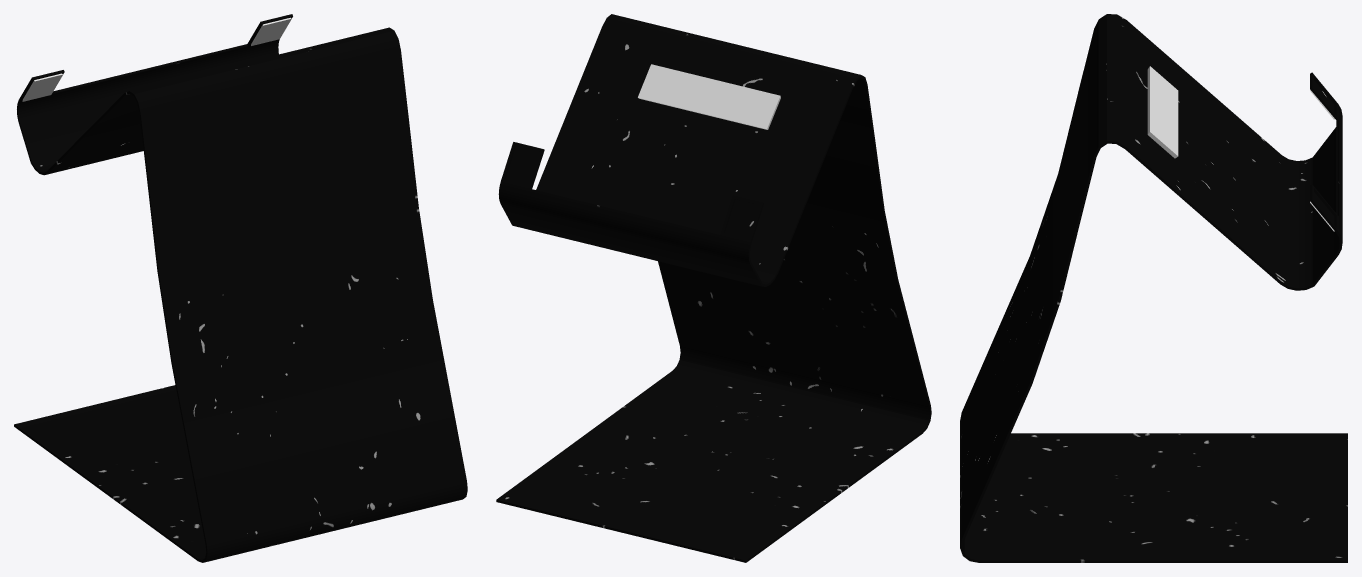
File: stand2.glb
3 views of the same model, side by side, from view 1: azimuth 30°, elevation 25°; view 2: azimuth 150°, elevation 25°; view 3: azimuth 270°, elevation 25° (orthographic). The views are drawn at different scales.
Visible parts, largest first — view 1: Phone Stand_0; view 2: Phone Stand_0; view 3: Phone Stand_0.
Boxes of the visible parts, x1=… form: Phone Stand_0: x1=14, y1=14, x2=467, y2=562; Phone Stand_0: x1=496, y1=14, x2=931, y2=562; Phone Stand_0: x1=960, y1=14, x2=1347, y2=562.
Size of the model in its own units: 0.2128 by 0.3284 by 0.2738.
Materials: 2 (1 with a texture image).
